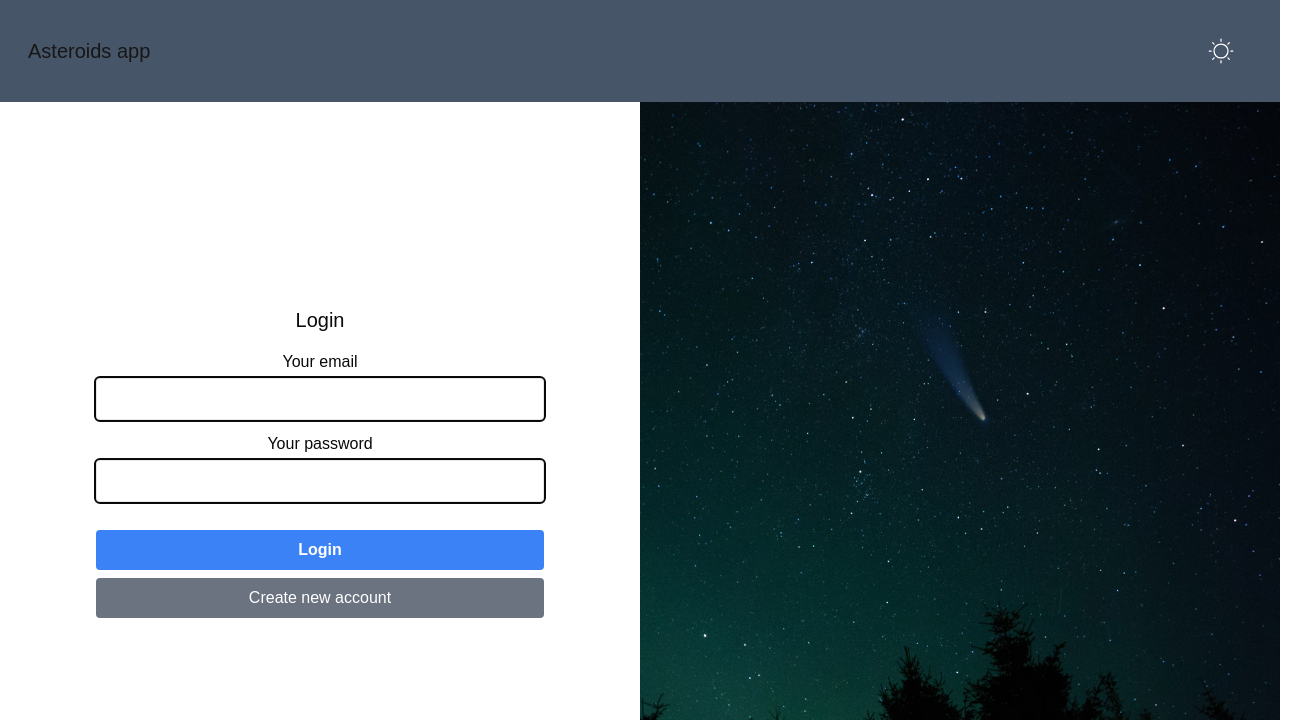
it: template spec › switches to sign-up form when button is clicked
Click the button "Create new account". click: [320, 598]
box: [96,578,544,618]
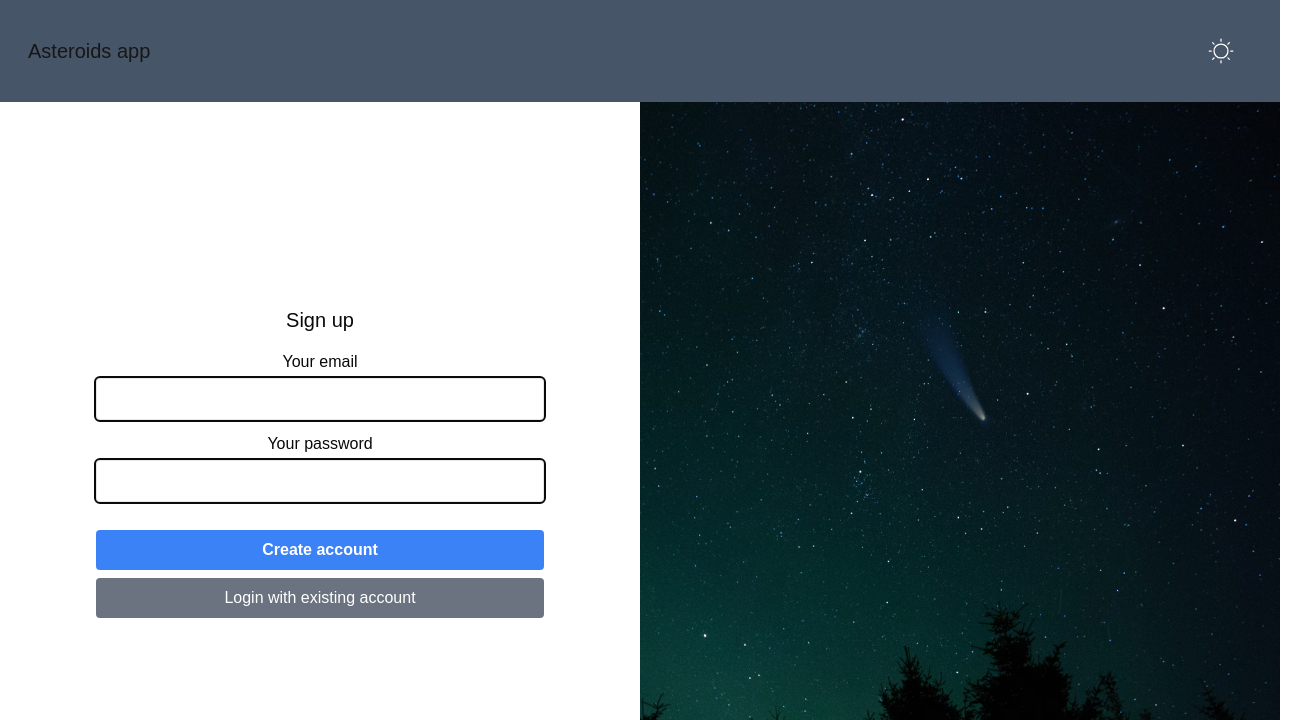
Expected: the heading with test id "title-cypress" reads "Sign up", [286,306,354,334]
Expected: the button "Create account" is shown, [96,530,544,570]
